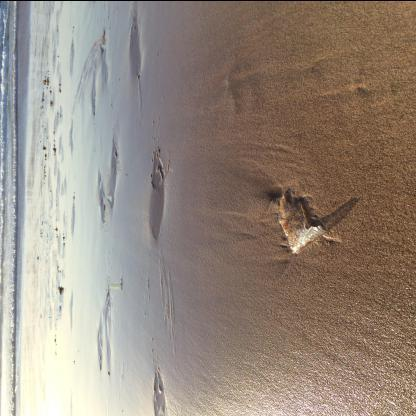plastik: (277, 191, 327, 254)
